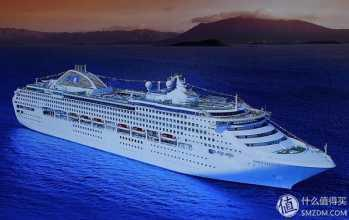youlun: (12, 52, 338, 188)
